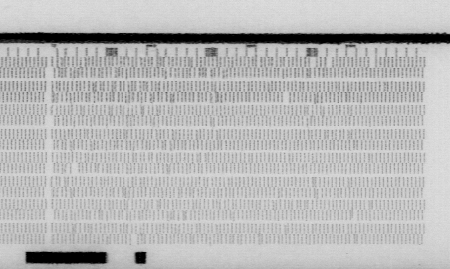Broken hole: (68, 163, 83, 176), (367, 55, 379, 68), (308, 56, 319, 70), (129, 232, 140, 245), (281, 91, 292, 104), (324, 57, 335, 69)
Oblique printing: (54, 55, 224, 107), (57, 103, 176, 175), (61, 186, 190, 225), (306, 175, 322, 200), (343, 129, 359, 151), (134, 223, 148, 245), (302, 102, 316, 116), (252, 232, 266, 245), (254, 55, 268, 68), (348, 232, 361, 245), (196, 151, 209, 164), (279, 222, 291, 235), (208, 116, 221, 128), (267, 199, 279, 212), (350, 208, 360, 223), (363, 200, 375, 212), (379, 81, 389, 93)
